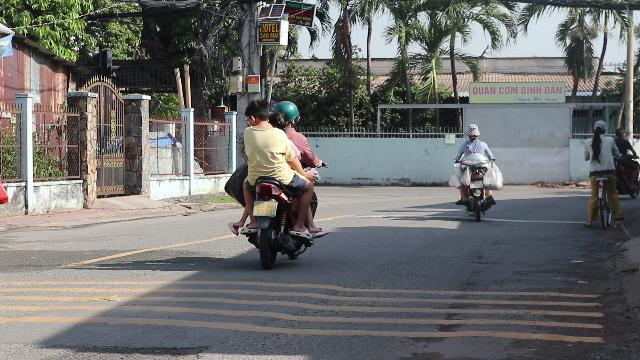helmet: (270, 99, 300, 128)
licenseplate: (252, 200, 276, 216), (470, 182, 482, 188)
motorcyclist: (224, 98, 324, 266), (452, 122, 501, 219)
nohelmet: (243, 99, 270, 126), (466, 123, 480, 139)
